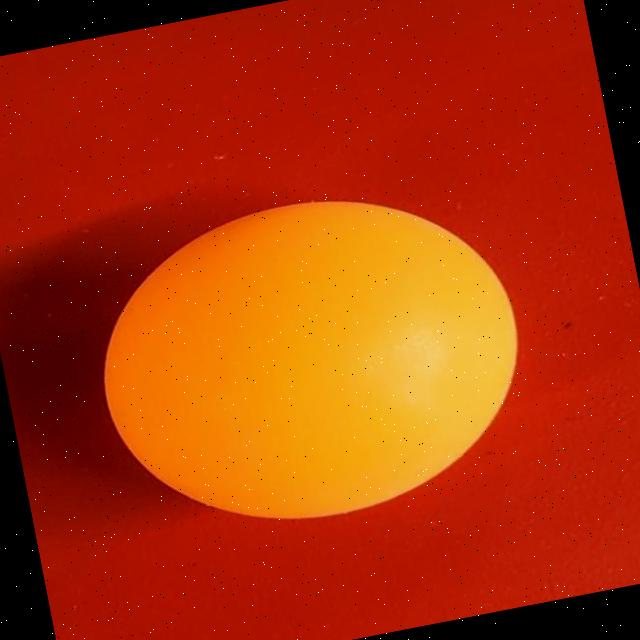ping-pong-ball: (69, 161, 549, 562)
